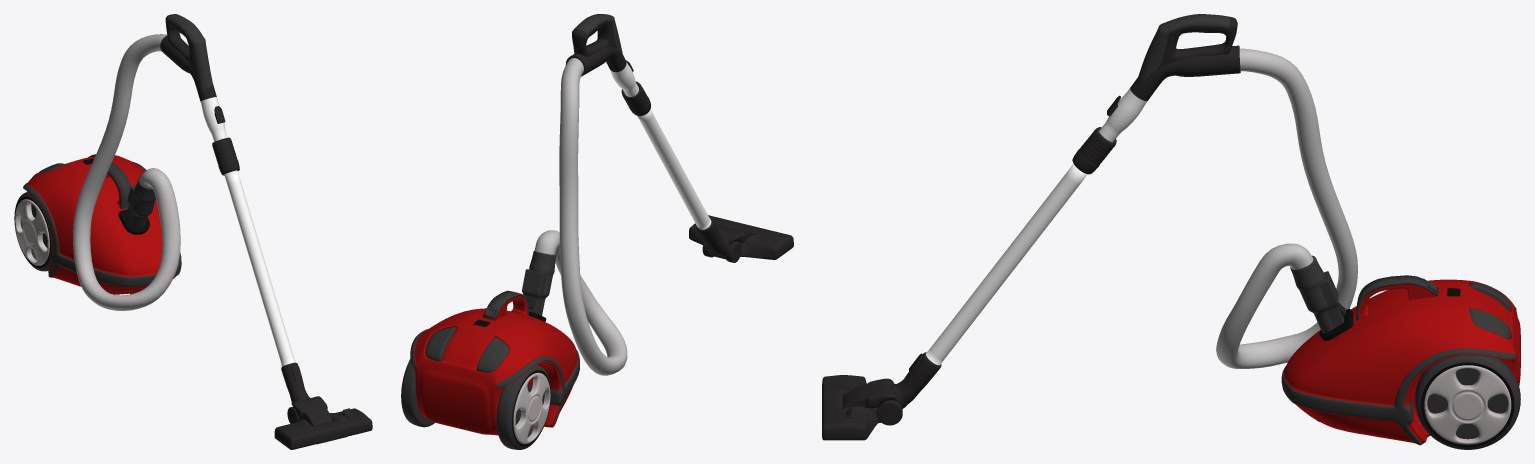
The model's file is vacuum_cleaner.glb.
The picture shows the model from 3 angles, left to right: view 1: azimuth 30°, elevation 25°; view 2: azimuth 150°, elevation 25°; view 3: azimuth 270°, elevation 25°; orthographic projection. The views are drawn at different scales.
Visible parts, largest first — view 1: Cube.013, Cylinder.017, Cylinder.009, Cube.019, Cylinder, Cube.002, Cylinder.008, Plane.010; view 2: Cube.013, Cylinder.017, Cylinder.009, Cylinder, Cube.019, Cube.002, Cube.009, Cylinder.008, Plane.010, Cylinder.018; view 3: Cube.013, Cylinder.017, Cylinder.009, Cylinder, Cube.019, Cube.002, Cylinder.008, Plane.010, Cube.009.
Part boxes in pixels (x1,y1,x2,y2): Cube.013: (23, 154, 181, 294); Cylinder.017: (73, 34, 180, 310); Cylinder.009: (160, 35, 309, 402); Cube.019: (274, 396, 372, 449); Cylinder: (14, 191, 52, 271); Cube.002: (165, 14, 212, 90); Cylinder.008: (130, 175, 155, 229); Plane.010: (90, 162, 130, 209); Cube.013: (410, 308, 579, 435); Cylinder.017: (534, 58, 627, 375); Cylinder.009: (565, 46, 727, 255); Cylinder: (401, 359, 551, 449); Cube.019: (689, 215, 793, 259); Cube.002: (572, 14, 622, 56); Cube.009: (522, 269, 546, 313); Cylinder.008: (529, 250, 556, 315); Plane.010: (482, 290, 528, 320); Cylinder.018: (702, 241, 741, 262); Cube.013: (1281, 279, 1520, 445); Cylinder.017: (1216, 48, 1357, 368); Cylinder.009: (889, 45, 1240, 408); Cylinder: (1415, 355, 1520, 449); Cube.019: (822, 375, 897, 440); Cube.002: (1138, 14, 1237, 82); Cylinder.008: (1290, 255, 1333, 333); Plane.010: (1356, 275, 1438, 320); Cube.009: (1319, 271, 1343, 328).
Size of the model in its own units: 830 by 2027 by 3195.
